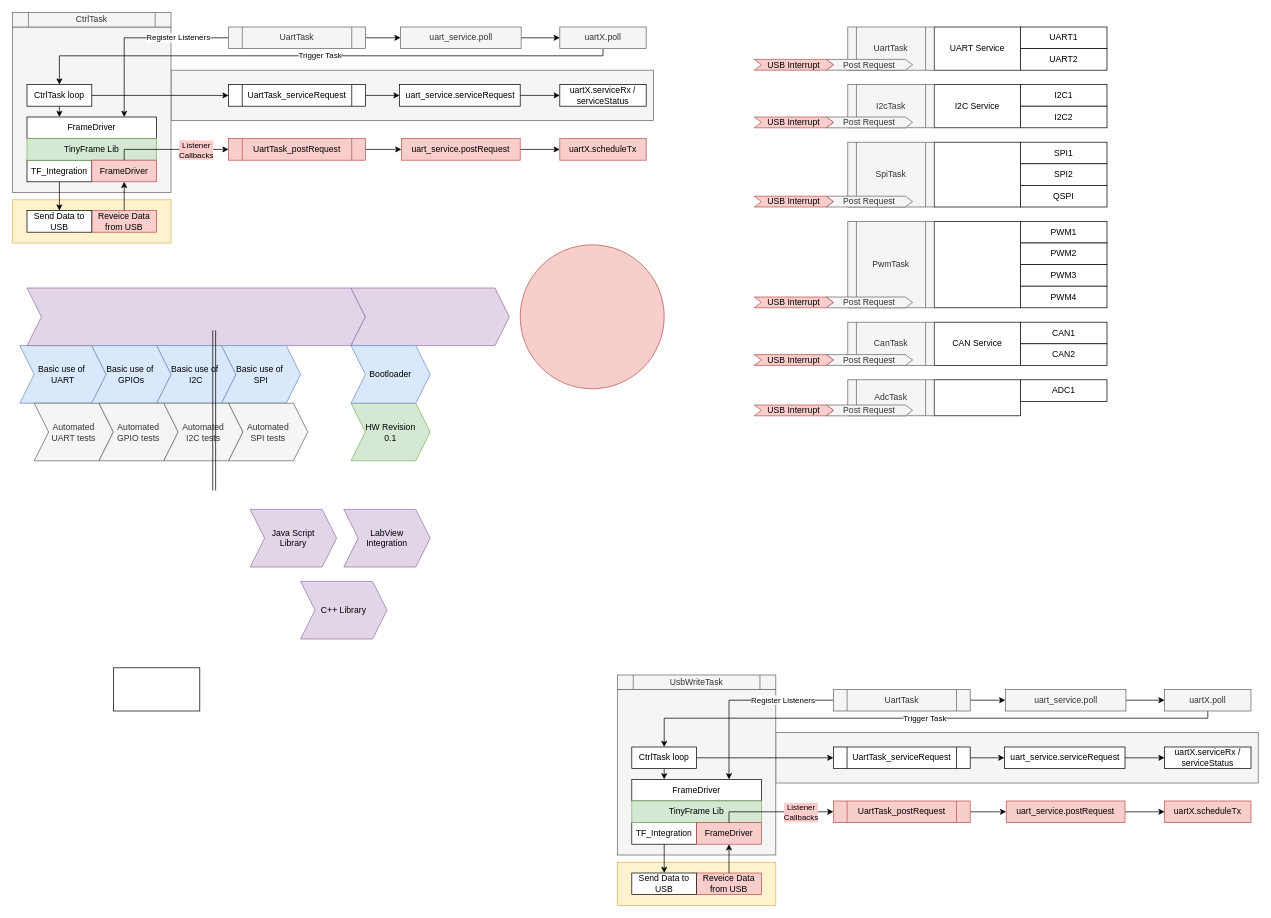
This 1271x918 diagram has some shape labels left out. Here are the shapes that lost their labels. From the top down, the centre of each, then its label:
At (977,174): "SPI Service".
At (977,264): "PWM Service".
At (195,316): "Basic Python library".
At (429,316): "Gui".
At (591,316): "Launch End 2023".
At (977,397): "ADC Service".
